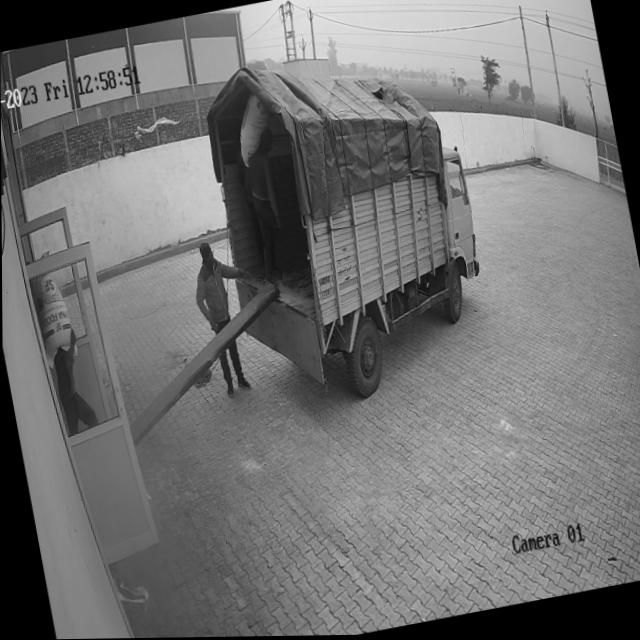sack: (30, 269, 80, 368), (229, 90, 277, 169)
